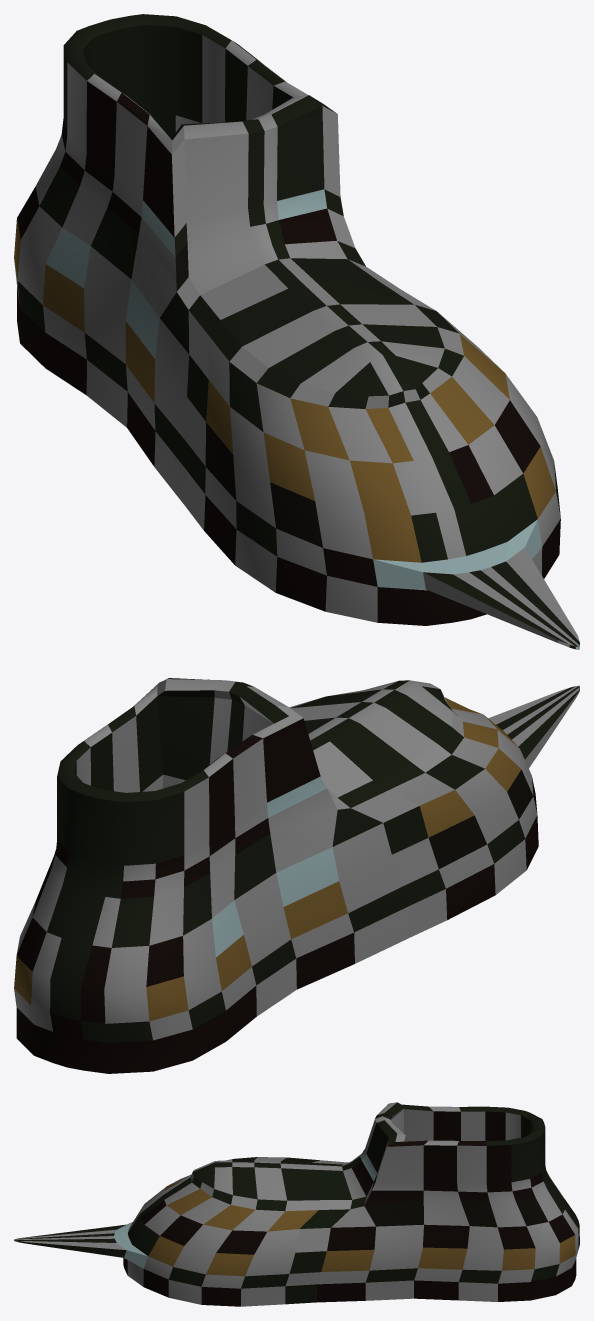
Rendered from ShoeRKnifeChuck.fbx.
The picture shows the model from 3 angles, top to bottom: view 1: azimuth 30°, elevation 25°; view 2: azimuth 150°, elevation 25°; view 3: azimuth 270°, elevation 25°; orthographic projection. The views are drawn at different scales.
Visible parts, largest first — view 1: Shoe_R; view 2: Shoe_R; view 3: Shoe_R.
Boxes of the visible parts, left/top/right/bottom form: Shoe_R: left=14, top=14, right=579, bottom=649; Shoe_R: left=14, top=678, right=579, bottom=1073; Shoe_R: left=14, top=1102, right=579, bottom=1306.
Bounding box in the file's own units: 26.74 × 26.77 × 86.92.
